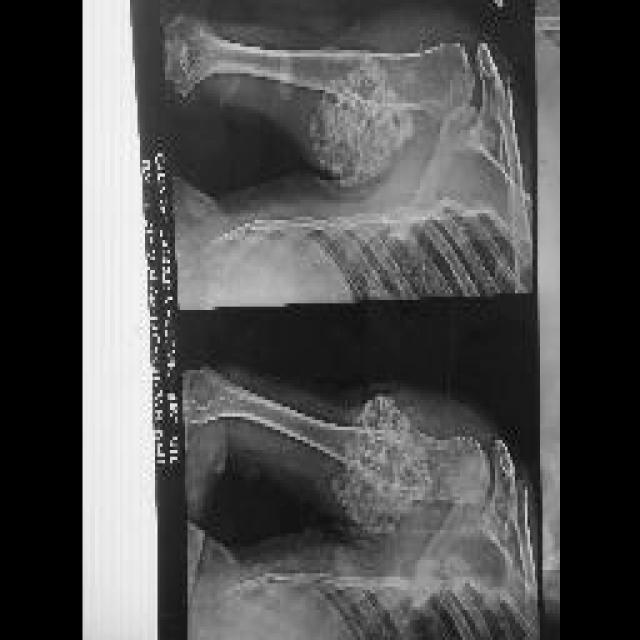bone-cancer: (331, 402, 438, 528), (314, 57, 419, 183)
